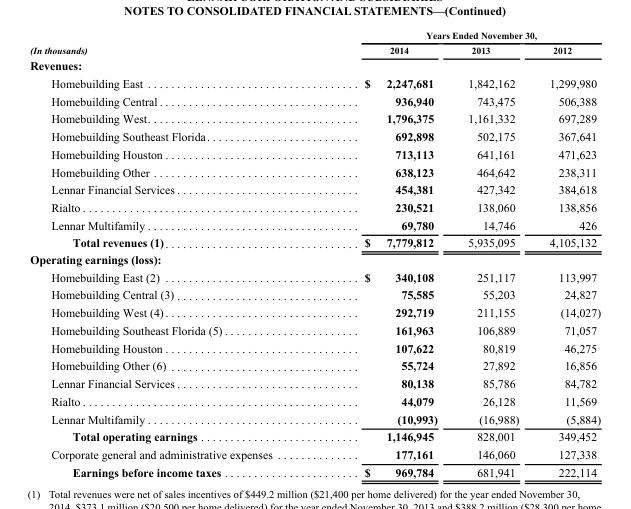table: (29, 29, 600, 478)
table column: (29, 29, 317, 478), (317, 29, 452, 478), (452, 29, 533, 478), (533, 29, 600, 478)
table column header: (29, 29, 600, 56)
table projected row header: (29, 56, 600, 74), (29, 250, 600, 267)
table row: (29, 56, 600, 74), (29, 91, 600, 109), (29, 109, 600, 127), (29, 127, 600, 145), (29, 162, 600, 180), (29, 180, 600, 198), (29, 215, 600, 233), (29, 267, 600, 285), (29, 285, 600, 303), (29, 303, 600, 321), (29, 338, 600, 356), (29, 356, 600, 374), (29, 374, 600, 392), (29, 409, 600, 427), (29, 427, 600, 445), (29, 74, 600, 91), (29, 145, 600, 162), (29, 198, 600, 215), (29, 233, 600, 250), (29, 250, 600, 267), (29, 321, 600, 338), (29, 392, 600, 409), (29, 445, 600, 462), (29, 462, 600, 478), (29, 42, 600, 56), (29, 29, 600, 42)
table spanning cell: (29, 29, 317, 56), (317, 29, 600, 42)
